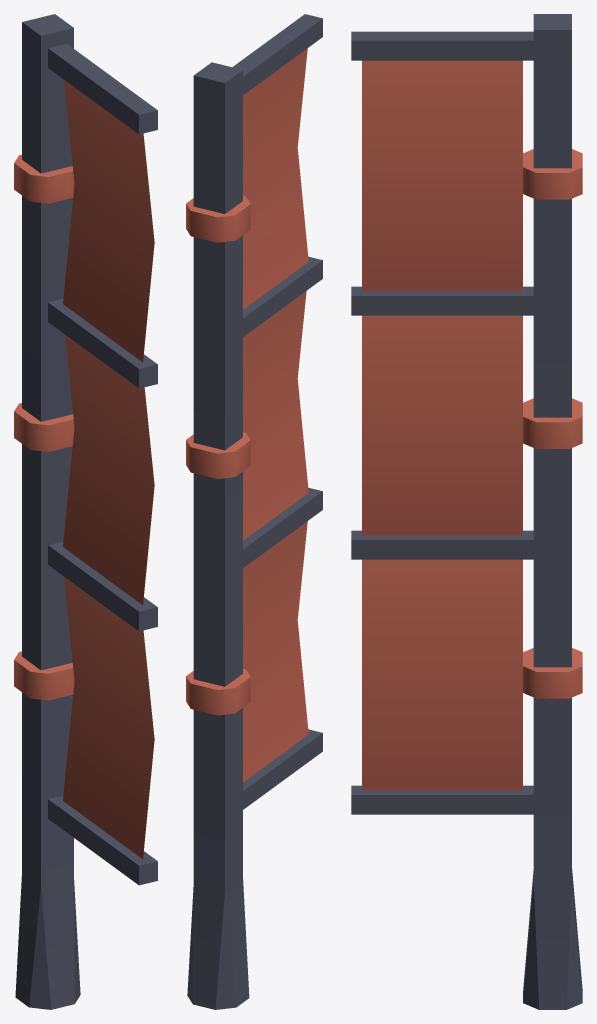
The model's file is blade.glb.
The picture shows the model from 3 angles, left to right: view 1: azimuth 30°, elevation 25°; view 2: azimuth 150°, elevation 25°; view 3: azimuth 270°, elevation 25°; orthographic projection. The views are drawn at different scales.
Parts seen in each view (by area): view 1: blade; view 2: blade; view 3: blade.
Boxes of the visible parts, x1=… form: blade: x1=14, y1=14, x2=157, y2=1009; blade: x1=186, y1=14, x2=322, y2=1009; blade: x1=351, y1=14, x2=582, y2=1009.
Bounding box in the file's own units: 0.111 × 2 × 0.4304.
1 material, 1 textured.
